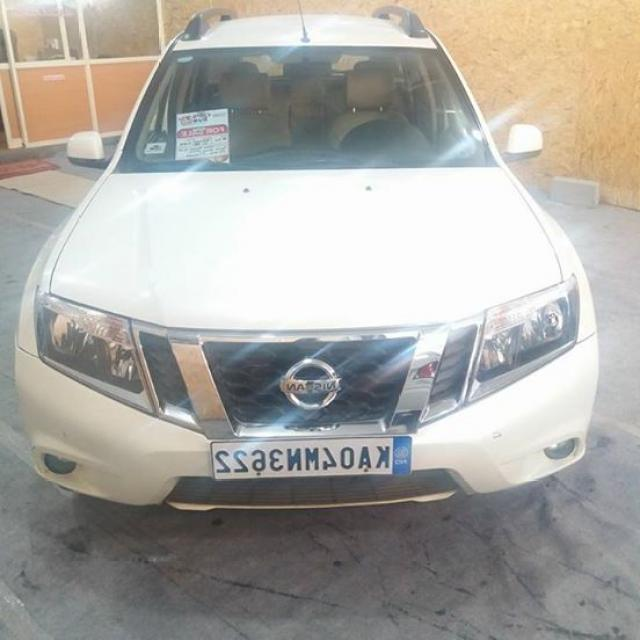license_plate: (208, 433, 413, 481)
